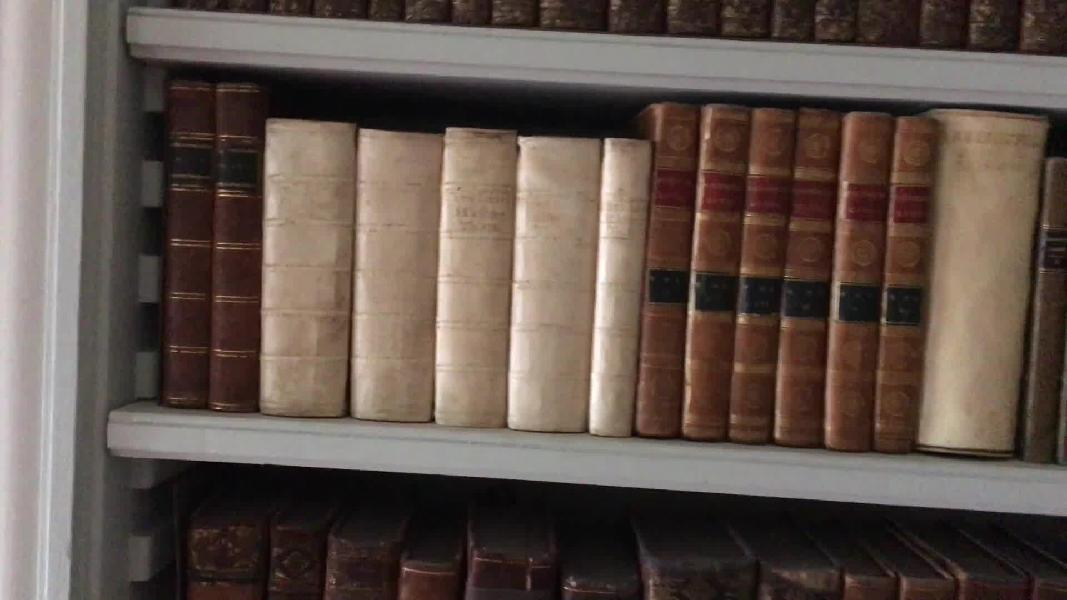Kk4-14: (923, 105, 1045, 458)
Kk4-1_2: (161, 84, 258, 413)
Kk4-3_7: (263, 109, 649, 439)
Kk4-8_13: (640, 99, 937, 450)
